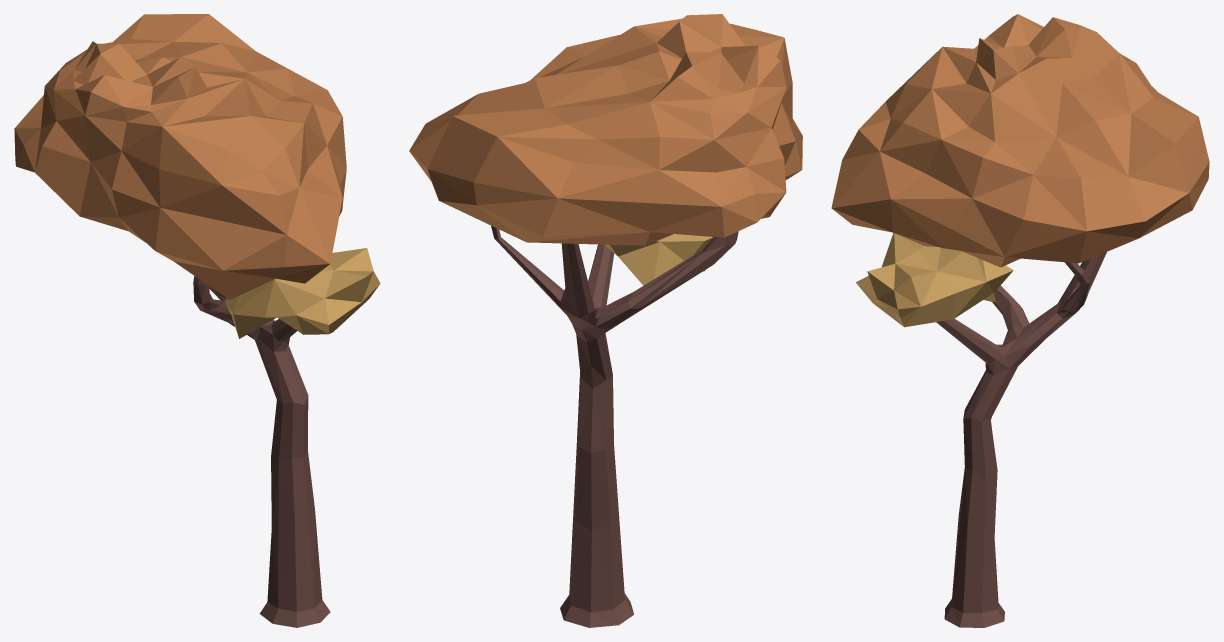
The model's file is CommonTree_Autumn_4.lod1.glb.
3 views of the same model, side by side, from view 1: azimuth 30°, elevation 25°; view 2: azimuth 150°, elevation 25°; view 3: azimuth 270°, elevation 25° (orthographic). The views are drawn at different scales.
Visible parts, largest first — view 1: CommonTree_Autumn_4; view 2: CommonTree_Autumn_4; view 3: CommonTree_Autumn_4.
Boxes of the visible parts, left/top/right/bottom form: CommonTree_Autumn_4: left=14, top=14, right=380, bottom=627; CommonTree_Autumn_4: left=409, top=14, right=802, bottom=627; CommonTree_Autumn_4: left=831, top=14, right=1209, bottom=627.
Size of the model in its own units: 1.58 by 2.78 by 1.8.
